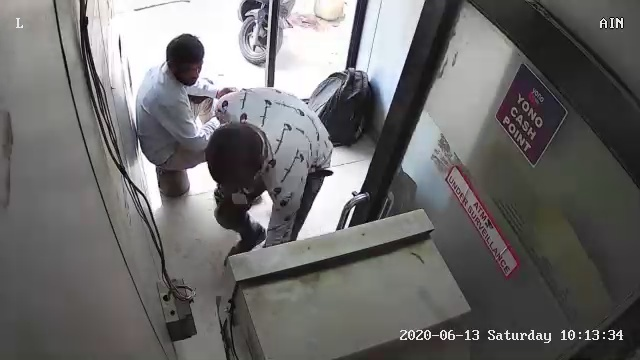open: (241, 3, 375, 121)
